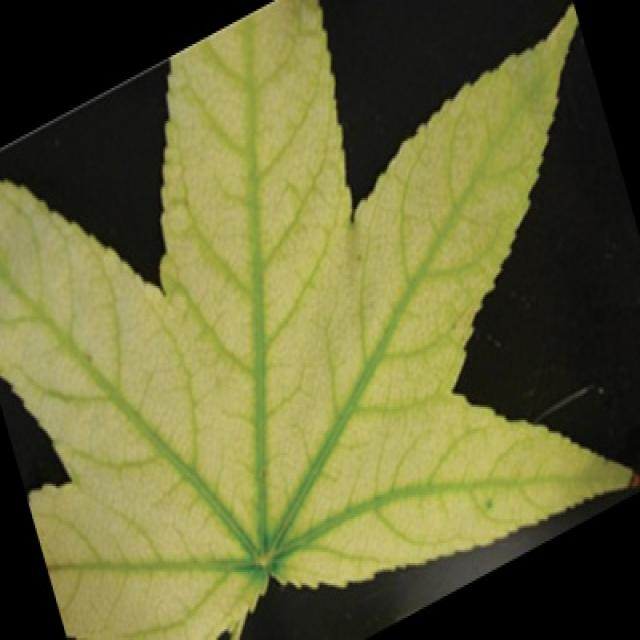Chlorosis: (7, 29, 638, 639)
